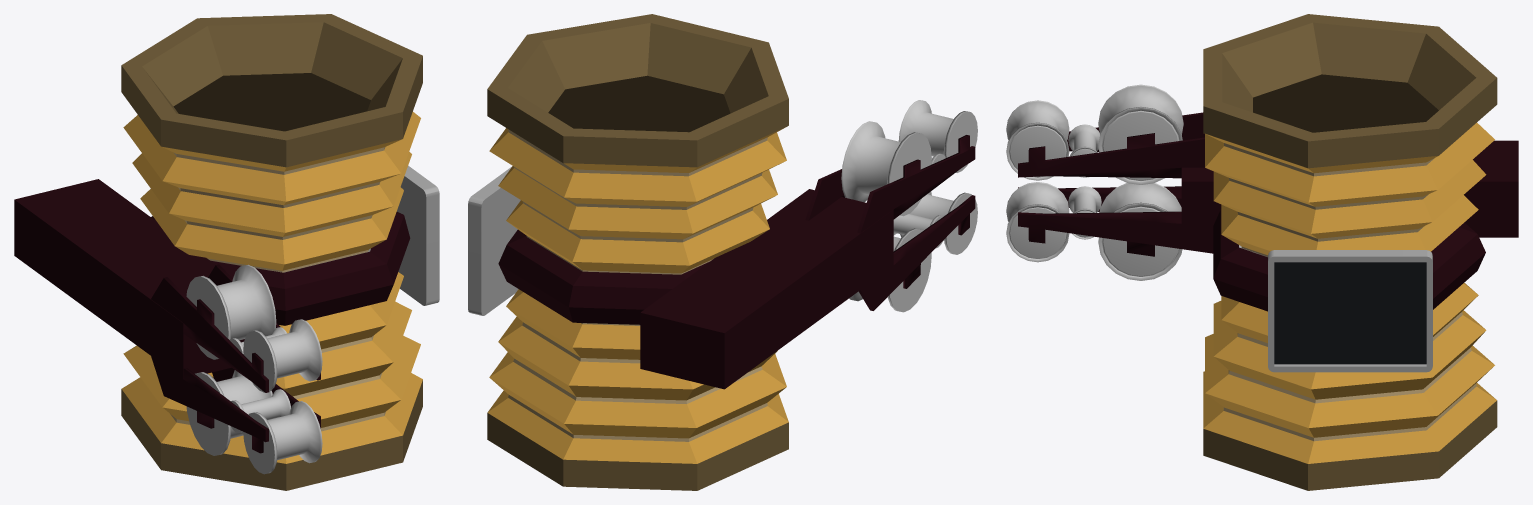
The model's file is PlayerAnimation_Move_RightStop.fbx.
3 views of the same model, side by side, from view 1: azimuth 30°, elevation 25°; view 2: azimuth 150°, elevation 25°; view 3: azimuth 270°, elevation 25° (orthographic).
Parts seen in each view (by area): view 1: Original; view 2: Original; view 3: Original.
Part boxes in pixels (box(x1,y1,x2,y2)): Original: box(14, 14, 439, 490); Original: box(468, 14, 977, 490); Original: box(1006, 14, 1518, 490).
Size of the model in its own units: 226 by 249 by 331.
